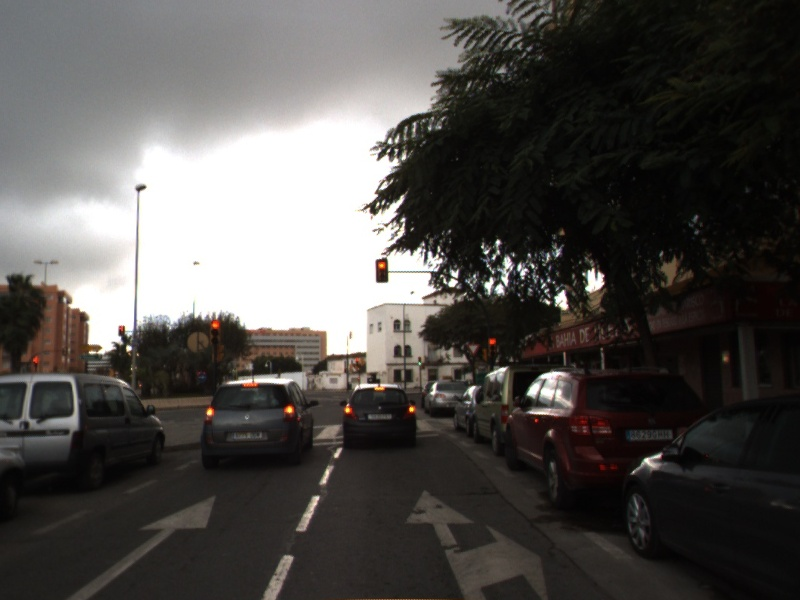STRAIGHT: (66, 493, 218, 600)
STRAIGHT_RIGHT: (403, 488, 549, 600)
